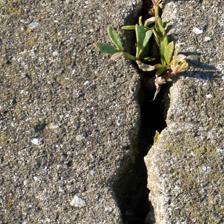Crack: (50, 2, 131, 219)
